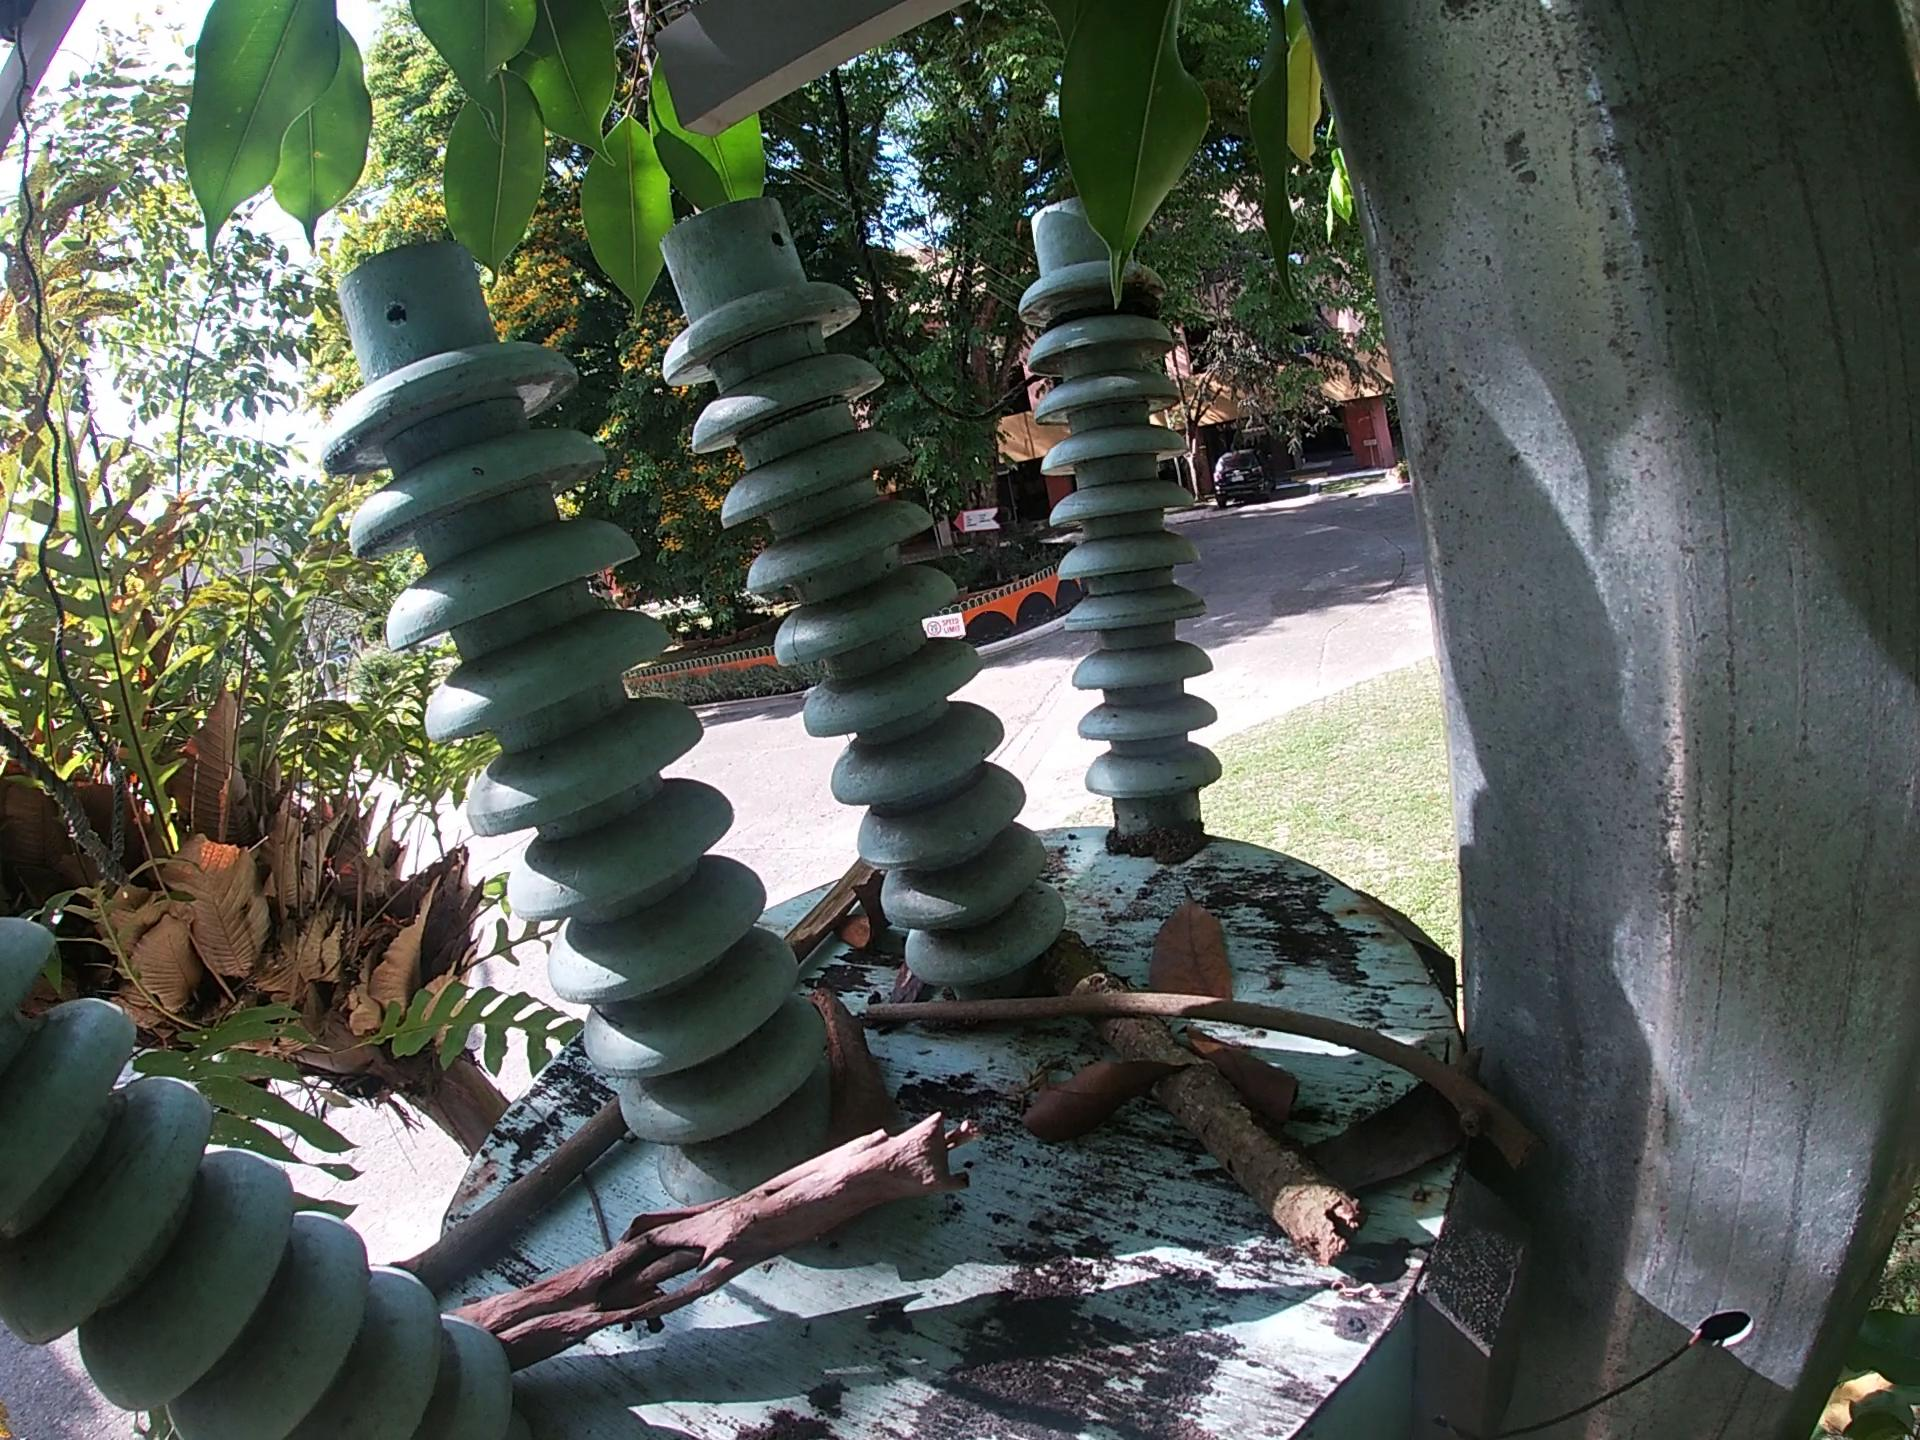leaf: (1311, 1069, 1506, 1175), (1031, 1044, 1214, 1134), (1206, 1035, 1324, 1134), (1150, 880, 1246, 989)
mahogany fruit: (803, 982, 886, 1147), (842, 871, 906, 976)
tree branch: (435, 1097, 999, 1358), (851, 973, 1506, 1131), (1058, 923, 1361, 1258), (404, 1101, 636, 1284), (773, 853, 878, 951), (565, 1181, 612, 1257)
